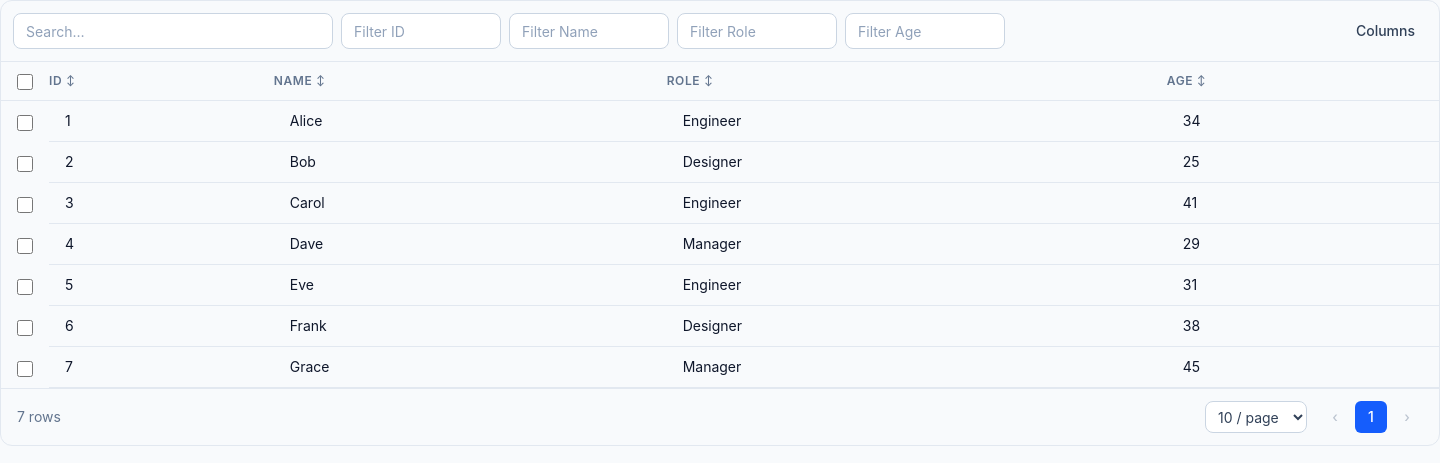
Scenario: DataTable › column visibility › renders the column menu
The image size is (1440, 463).
Click the button "Columns".
click(1385, 31)  # box [1344,13,1427,49]
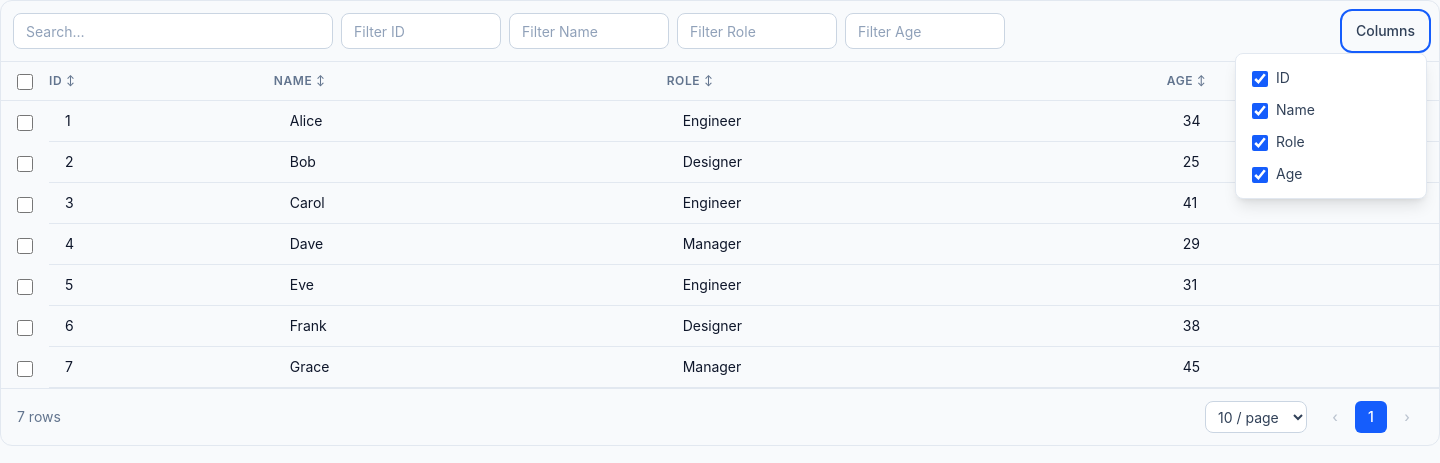
Now the menu is shown, box [1235,53,1427,199]
